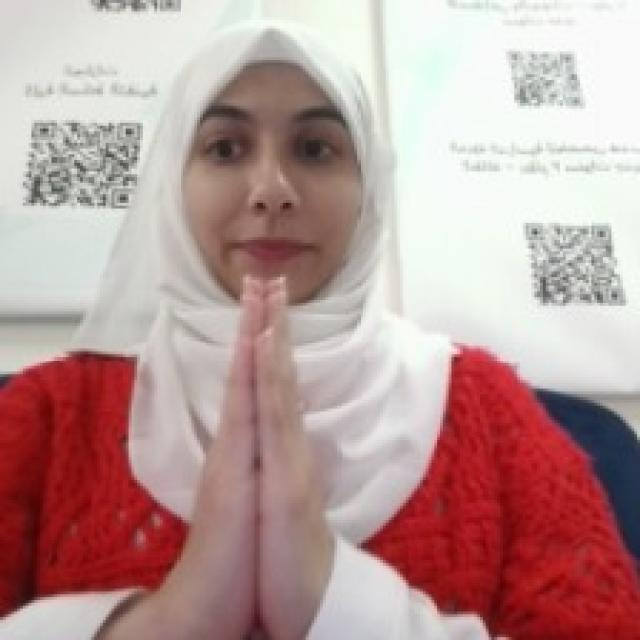sorry: (180, 274, 340, 632)
